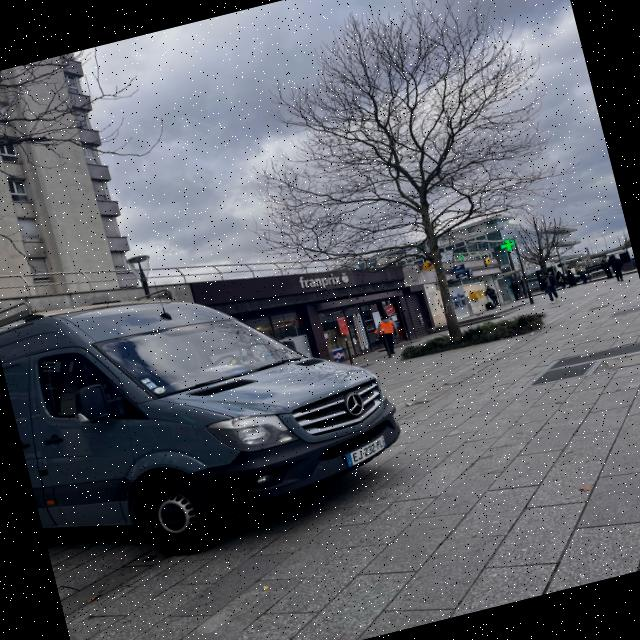EU: (343, 433, 389, 468)
France: (344, 451, 354, 467)
